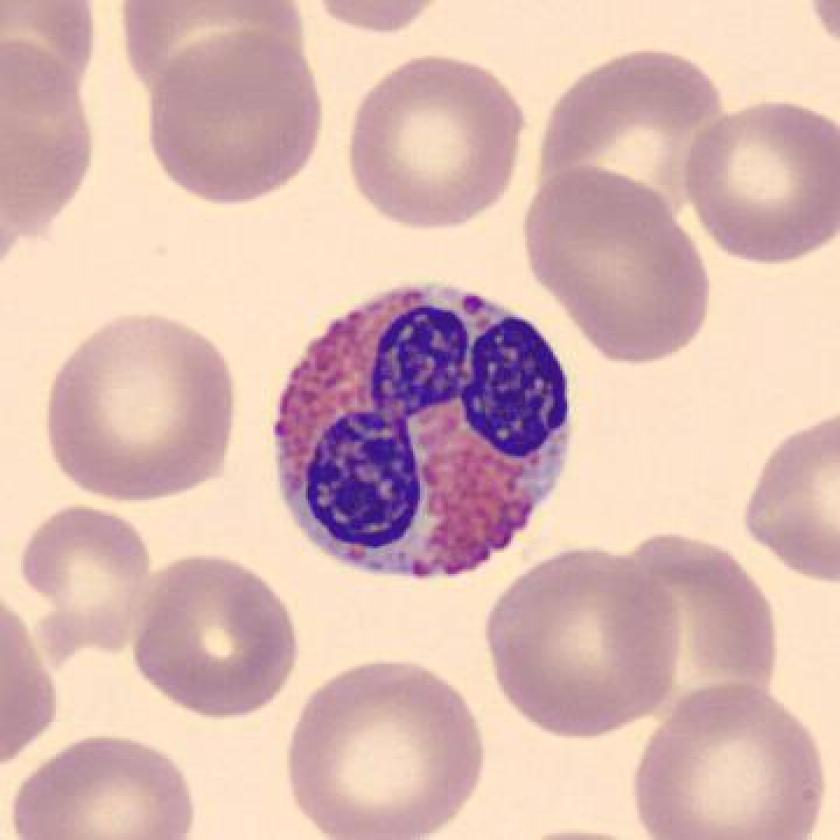eosinophil: (258, 265, 584, 593)
